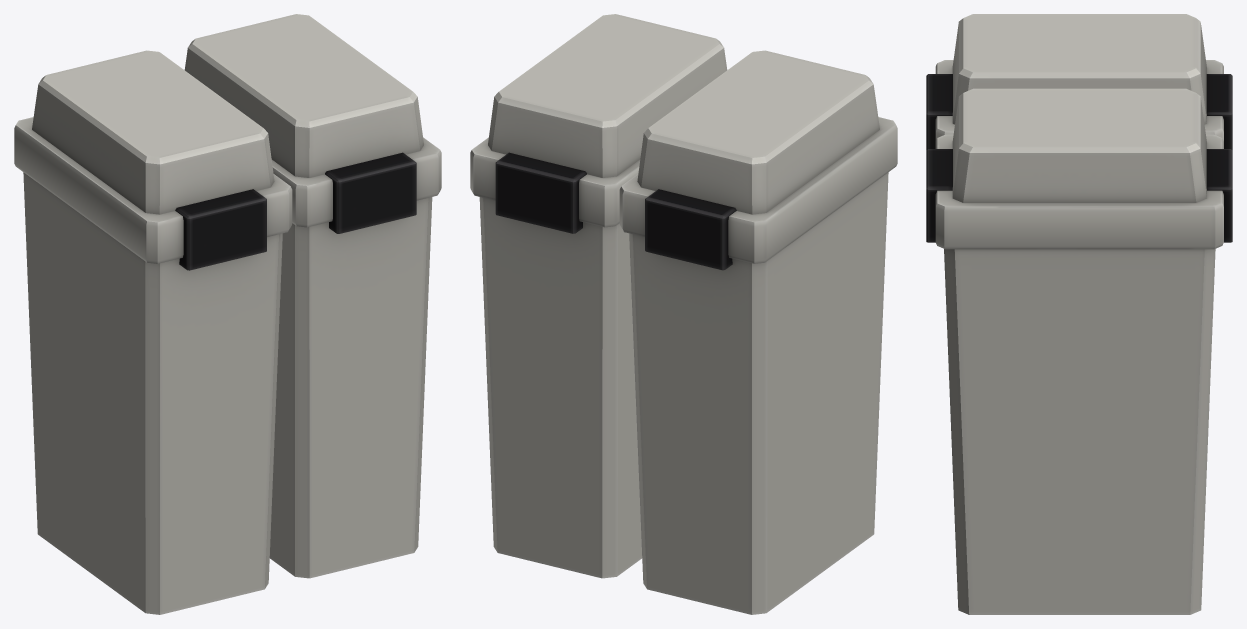
Rendered from sb_obj_ModernCity043_dustbox_b.fbx.
3 views of the same model, side by side, from view 1: azimuth 30°, elevation 25°; view 2: azimuth 150°, elevation 25°; view 3: azimuth 270°, elevation 25° (orthographic). The views are drawn at different scales.
Parts seen in each view (by area): view 1: sb_obj_ModernCity043_dustbox_b; view 2: sb_obj_ModernCity043_dustbox_b; view 3: sb_obj_ModernCity043_dustbox_b.
Boxes of the visible parts, x1,y1,x2,y2 form: sb_obj_ModernCity043_dustbox_b: (14, 14, 441, 614); sb_obj_ModernCity043_dustbox_b: (470, 14, 897, 614); sb_obj_ModernCity043_dustbox_b: (926, 14, 1232, 614).
Bounding box in the file's own units: 0.3953 × 0.581 × 0.3463.
